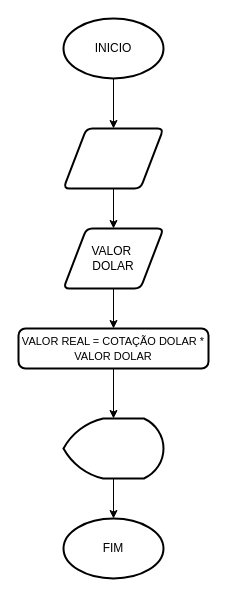
Some shapes in this 226 by 596 pixel diagram are drawn without their labels. The shapes that lost their labels are listed below. From the top down, each one's centre as x and y in pixels, then its label:
At (x=113, y=158): "COTAÇÃO DOLAR".
At (x=113, y=448): "VALOR REAL".
